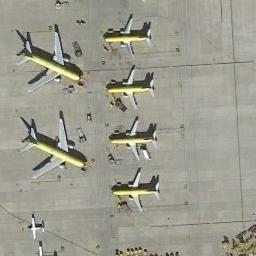Airplane: (21, 114, 90, 184), (12, 29, 82, 92), (100, 66, 160, 111), (98, 14, 156, 60), (111, 167, 162, 216), (110, 116, 162, 160)
